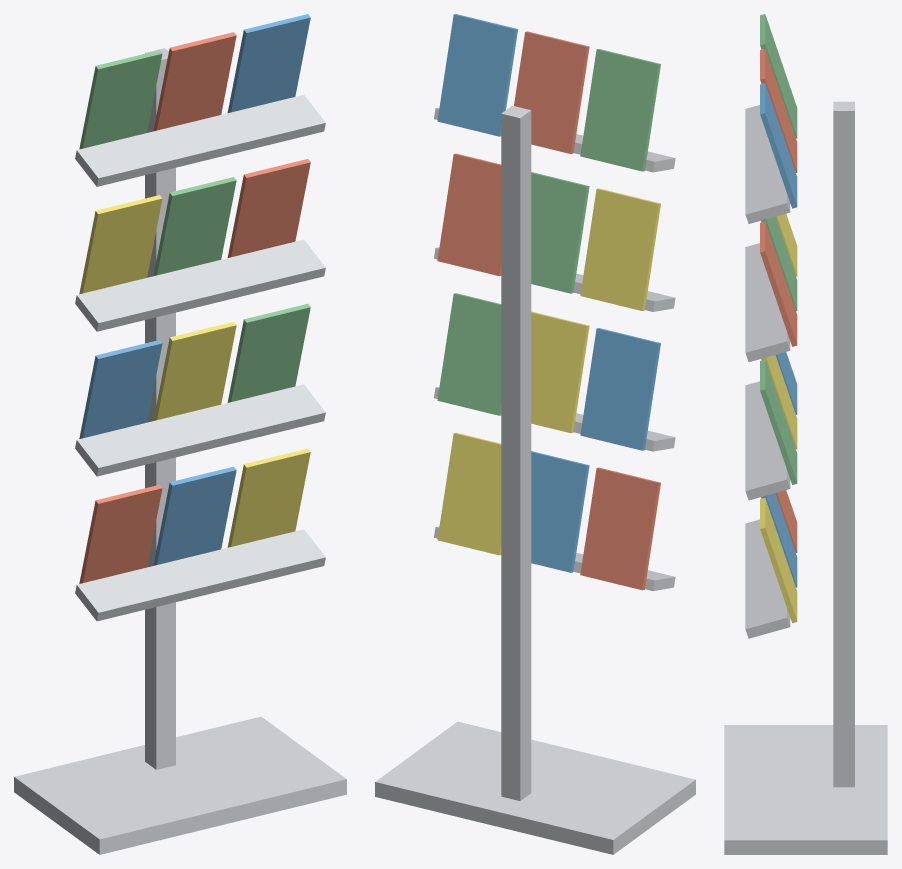
Rendered from leaflet_stand.glb.
3 views of the same model, side by side, from view 1: azimuth 30°, elevation 25°; view 2: azimuth 150°, elevation 25°; view 3: azimuth 270°, elevation 25° (orthographic). The views are drawn at different scales.
Parts seen in each view (by area): view 1: Cube, Cube.002, Cube.006, Cube.010, Cube.014, Cube.001, Cube.011, Cube.008, Cube.009, Cube.005, Cube.012, Cube.003 (+6 smaller); view 2: Cube, Cube.001, Cube.015, Cube.003, Cube.007, Cube.011, Cube.017, Cube.016, Cube.005, Cube.009, Cube.013, Cube.004 (+6 smaller); view 3: Cube, Cube.001, Cube.002, Cube.006, Cube.010, Cube.014, Cube.009, Cube.013, Cube.017, Cube.005, Cube.015, Cube.016 (+6 smaller).
Part boxes in pixels (<box>): Cube: <box>14,716,346,854</box>; Cube.002: <box>75,529,325,621</box>; Cube.006: <box>75,384,325,476</box>; Cube.010: <box>75,239,325,331</box>; Cube.014: <box>75,94,325,186</box>; Cube.001: <box>145,48,175,769</box>; Cube.011: <box>79,195,162,294</box>; Cube.008: <box>153,322,236,420</box>; Cube.009: <box>227,303,310,402</box>; Cube.005: <box>227,448,310,547</box>; Cube.012: <box>153,177,236,276</box>; Cube.003: <box>79,484,162,583</box>; Cube: <box>375,721,695,854</box>; Cube.001: <box>501,105,531,800</box>; Cube.015: <box>580,49,660,171</box>; Cube.003: <box>580,467,660,590</box>; Cube.007: <box>580,328,660,450</box>; Cube.011: <box>580,188,660,310</box>; Cube.017: <box>437,14,517,136</box>; Cube.016: <box>514,31,589,153</box>; Cube.005: <box>437,432,501,555</box>; Cube.009: <box>437,293,501,415</box>; Cube.013: <box>437,153,501,276</box>; Cube.004: <box>531,451,589,572</box>; Cube: <box>724,725,887,854</box>; Cube.001: <box>833,101,854,787</box>; Cube.002: <box>745,519,790,638</box>; Cube.006: <box>745,381,790,500</box>; Cube.010: <box>745,243,790,362</box>; Cube.014: <box>745,105,790,223</box>; Cube.009: <box>760,359,797,484</box>; Cube.013: <box>760,221,797,346</box>; Cube.017: <box>760,83,797,208</box>; Cube.005: <box>760,498,797,623</box>; Cube.015: <box>760,14,797,138</box>; Cube.016: <box>760,48,797,172</box>.
Size of the model in its own units: 0.5 by 1.49 by 0.3.
